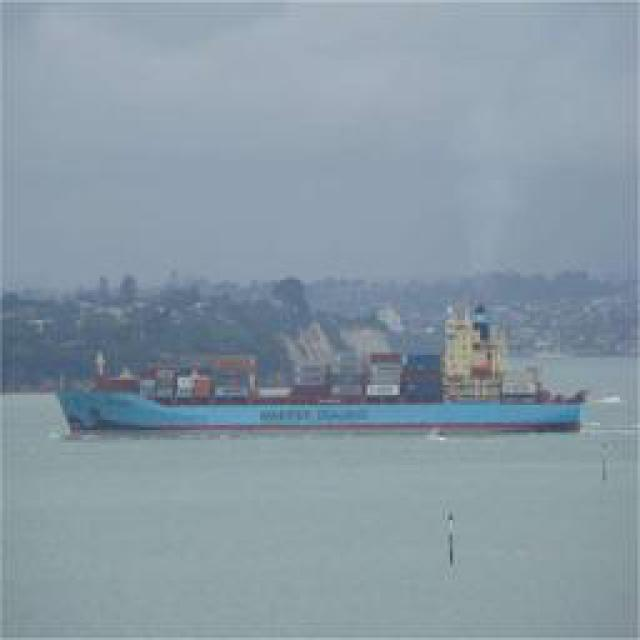Ship: (52, 352, 600, 435)
